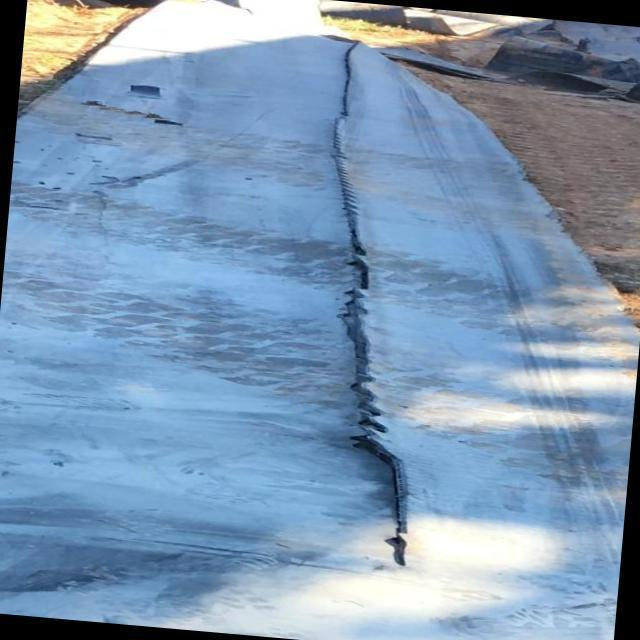Tear: (327, 41, 415, 570)
